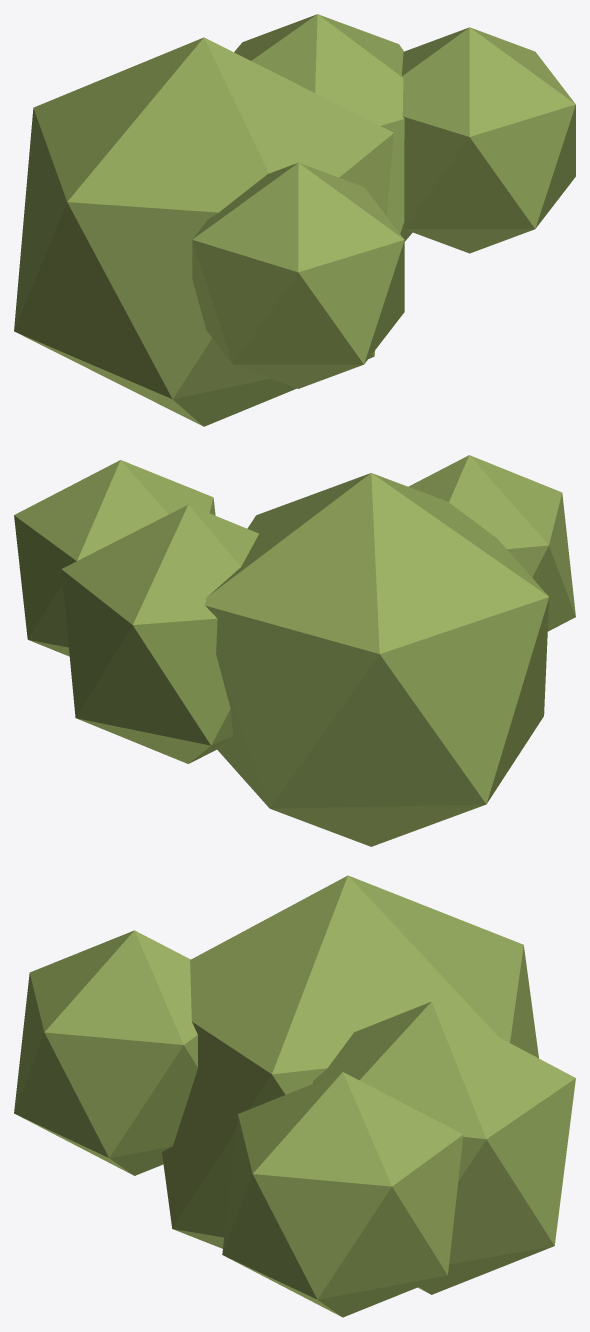
Rendered from bush_large_clump.glb.
3 renders of one model, top to bottom at view 1: azimuth 30°, elevation 25°; view 2: azimuth 150°, elevation 25°; view 3: azimuth 270°, elevation 25°, orthographic. The views are drawn at different scales.
Parts seen in each view (by area): view 1: Object_75; view 2: Object_75; view 3: Object_75.
Part boxes in pixels (left/top/right/bottom): Object_75: left=14, top=14, right=575, bottom=426; Object_75: left=14, top=455, right=575, bottom=846; Object_75: left=14, top=875, right=575, bottom=1317.
Bounding box in the file's own units: 2.7 × 1.94 × 2.33.
